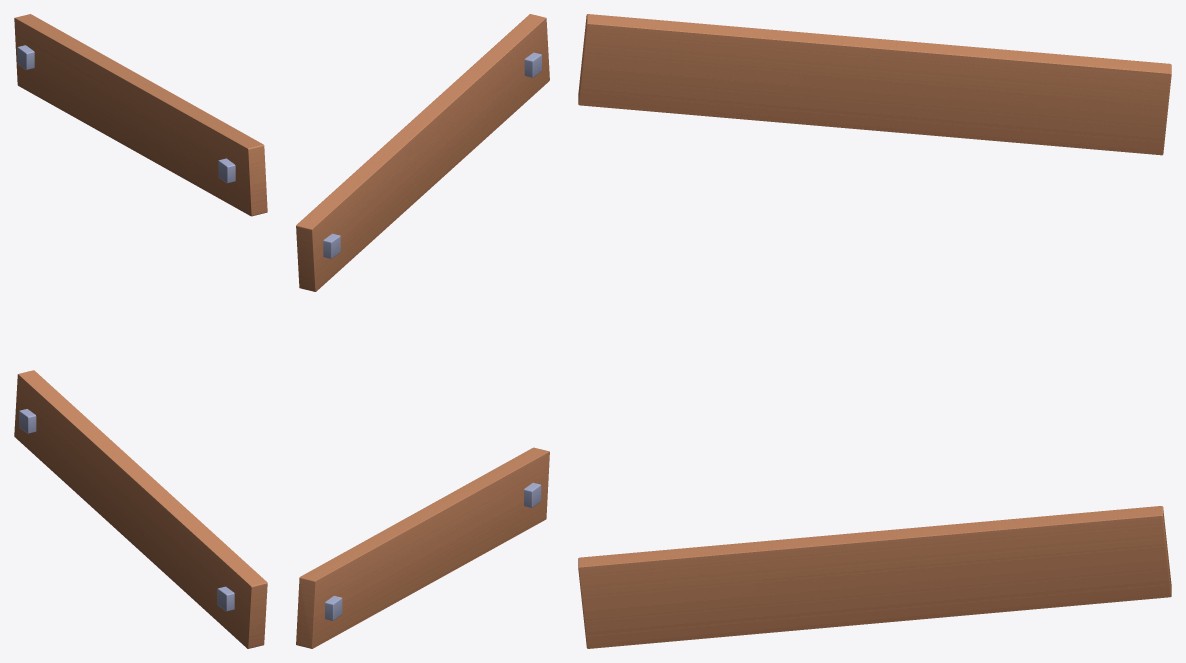
Rendered from barricade-doorway-a.glb.
3 renders of one model, left to right at view 1: azimuth 30°, elevation 25°; view 2: azimuth 150°, elevation 25°; view 3: azimuth 270°, elevation 25°, orthographic. The views are drawn at different scales.
Visible parts, largest first — view 1: barricade-doorway-a; view 2: barricade-doorway-a; view 3: barricade-doorway-a.
Boxes of the visible parts, box(x1,y1,x2,y2) form: barricade-doorway-a: box(14, 14, 267, 648); barricade-doorway-a: box(296, 14, 549, 648); barricade-doorway-a: box(578, 14, 1171, 648).
Size of the model in its own units: 0.075 by 1.46 by 1.26.
Materials: 1 (1 with a texture image).
